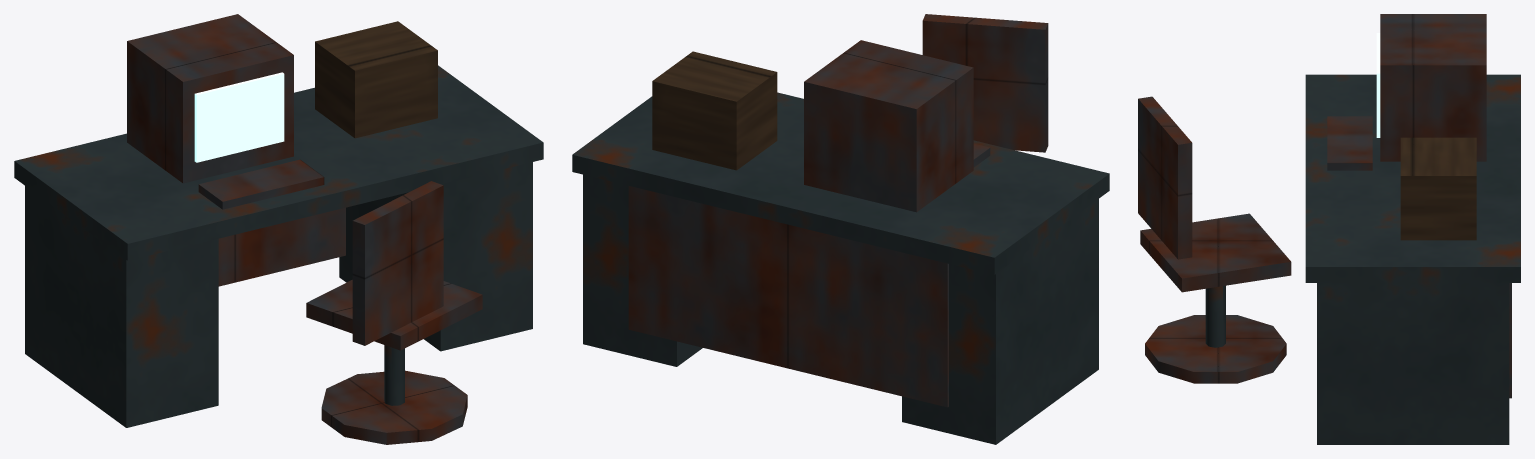
Rendered from Prop_SecurityDesk.fbx.
The picture shows the model from 3 angles, left to right: view 1: azimuth 30°, elevation 25°; view 2: azimuth 150°, elevation 25°; view 3: azimuth 270°, elevation 25°; orthographic projection. The views are drawn at different scales.
Visible parts, largest first — view 1: Prop_SecurityDesk; view 2: Prop_SecurityDesk; view 3: Prop_SecurityDesk.
Part boxes in pixels (x1=…): Prop_SecurityDesk: x1=14, y1=14, x2=543, y2=444; Prop_SecurityDesk: x1=572, y1=14, x2=1109, y2=444; Prop_SecurityDesk: x1=1138, y1=14, x2=1520, y2=444.
Size of the model in its own units: 1.8 by 1.25 by 1.51.
